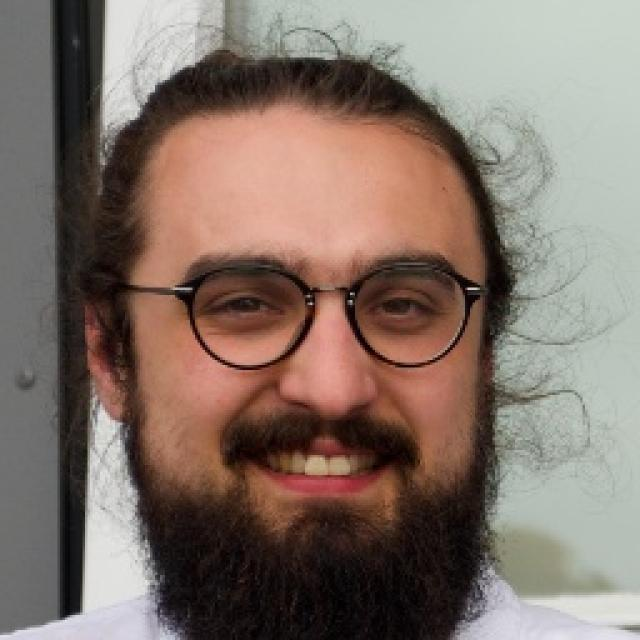earlobe: (80, 288, 136, 424)
